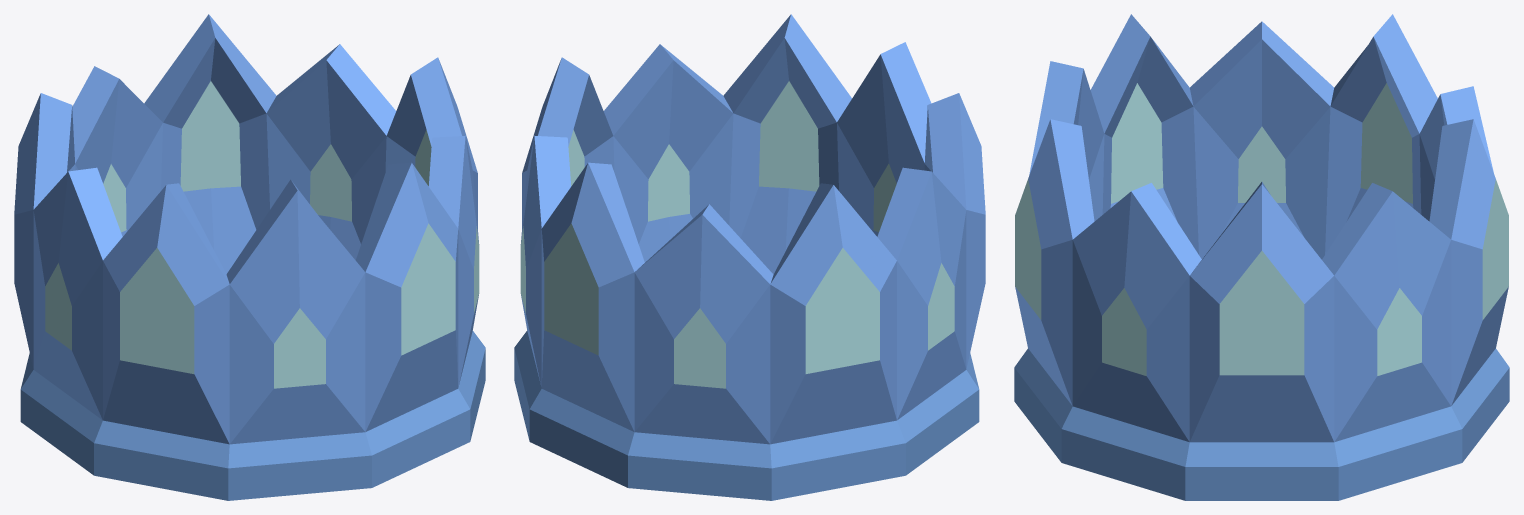
The model's file is Crown 1.fbx.
The picture shows the model from 3 angles, left to right: view 1: azimuth 30°, elevation 25°; view 2: azimuth 150°, elevation 25°; view 3: azimuth 270°, elevation 25°; orthographic projection. The views are drawn at different scales.
Parts seen in each view (by area): view 1: Crown 1; view 2: Crown 1; view 3: Crown 1.
Part boxes in pixels (x1=…): Crown 1: x1=14, y1=14, x2=485, y2=500; Crown 1: x1=514, y1=14, x2=985, y2=500; Crown 1: x1=1014, y1=14, x2=1509, y2=500.
Bounding box in the file's own units: 206 × 147 × 212.
